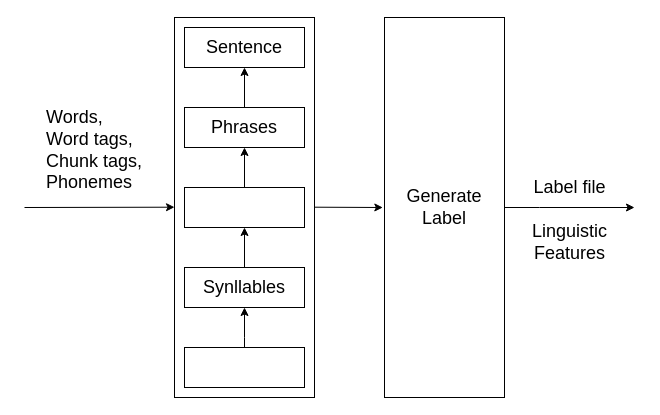
Some shapes in this 660 by 415 pixel diagram are drawn without their labels. The centre of each missing label's shape, as x and y in pixels:
"Phonemes" goes at (x=244, y=367).
"Words" goes at (x=244, y=207).
